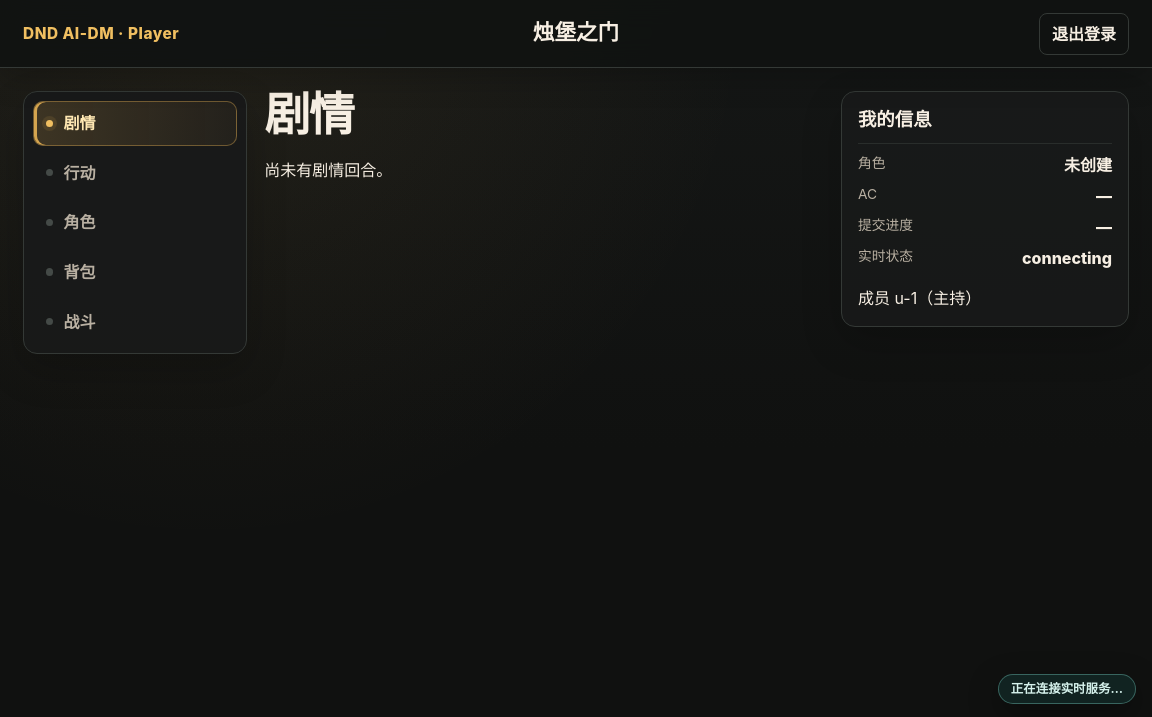
Scenario: Player 工作区 Shell › 渲染三栏并可导航；index 重定向到 story
Expected: the heading "剧情" is shown, [264,90,353,141]
Expected: the text "烛堡之门" is shown, [533,17,619,50]
Click the link "行动": click(79, 173) [63,163,95,183]
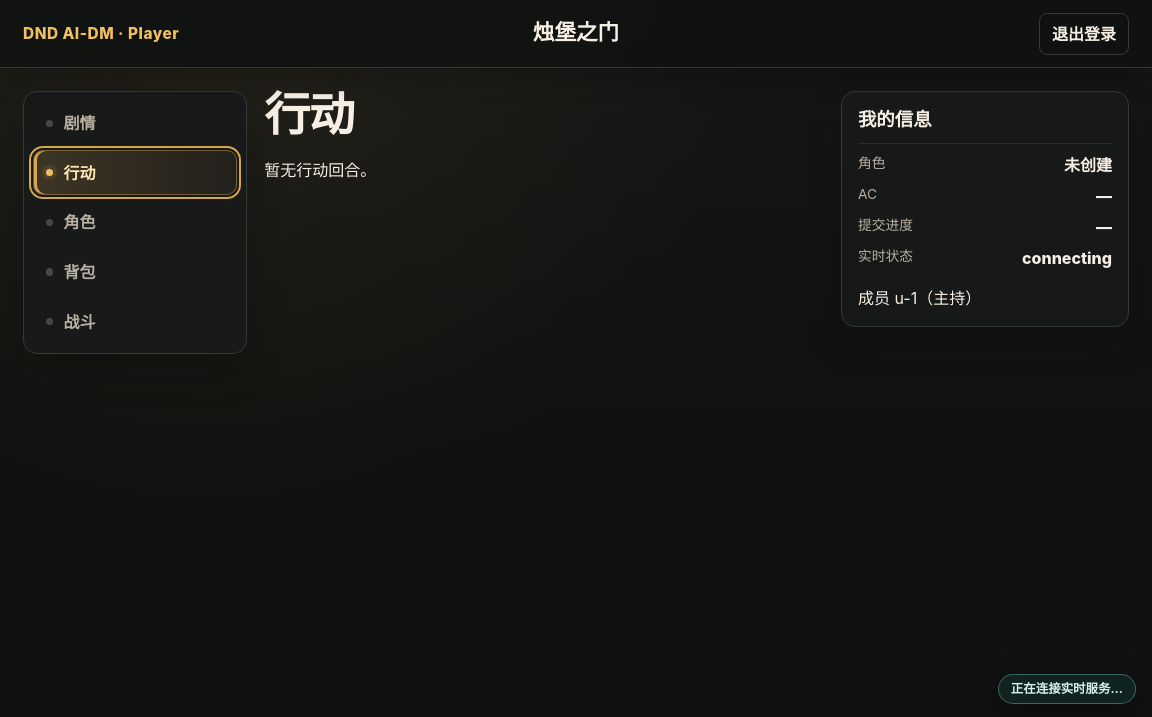
Now the heading "行动" is shown, box [264,90,353,141]
Click the link "角色": click(79, 222) [63,212,95,232]
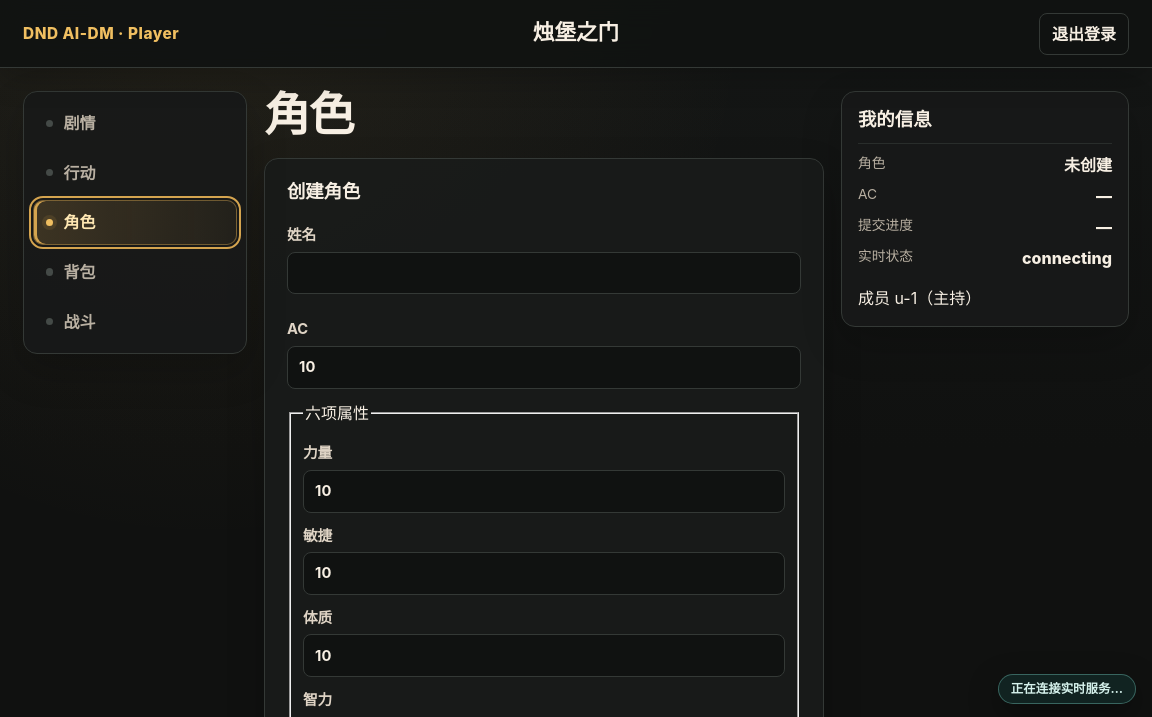
Now the heading "角色" is shown, box [264,90,353,141]
Click the link "背包": click(79, 272) [63,262,95,282]
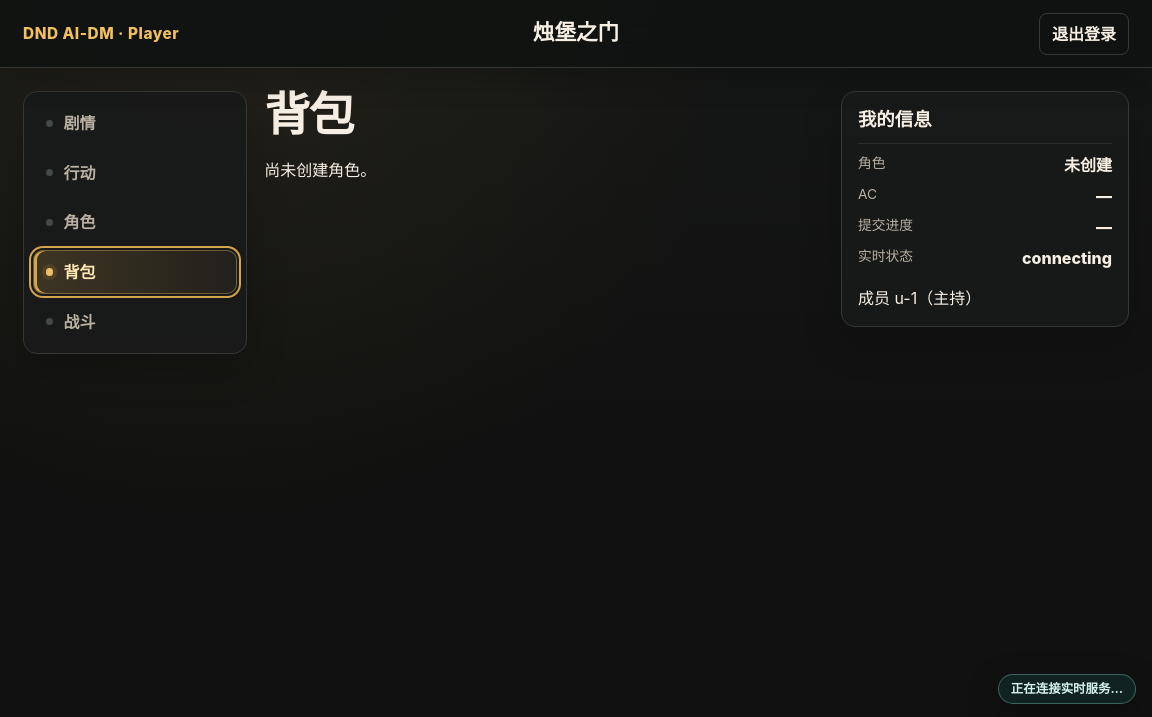
Now the heading "背包" is shown, box [264,90,353,141]
Click the link "战斗": click(79, 322) [63,312,95,332]
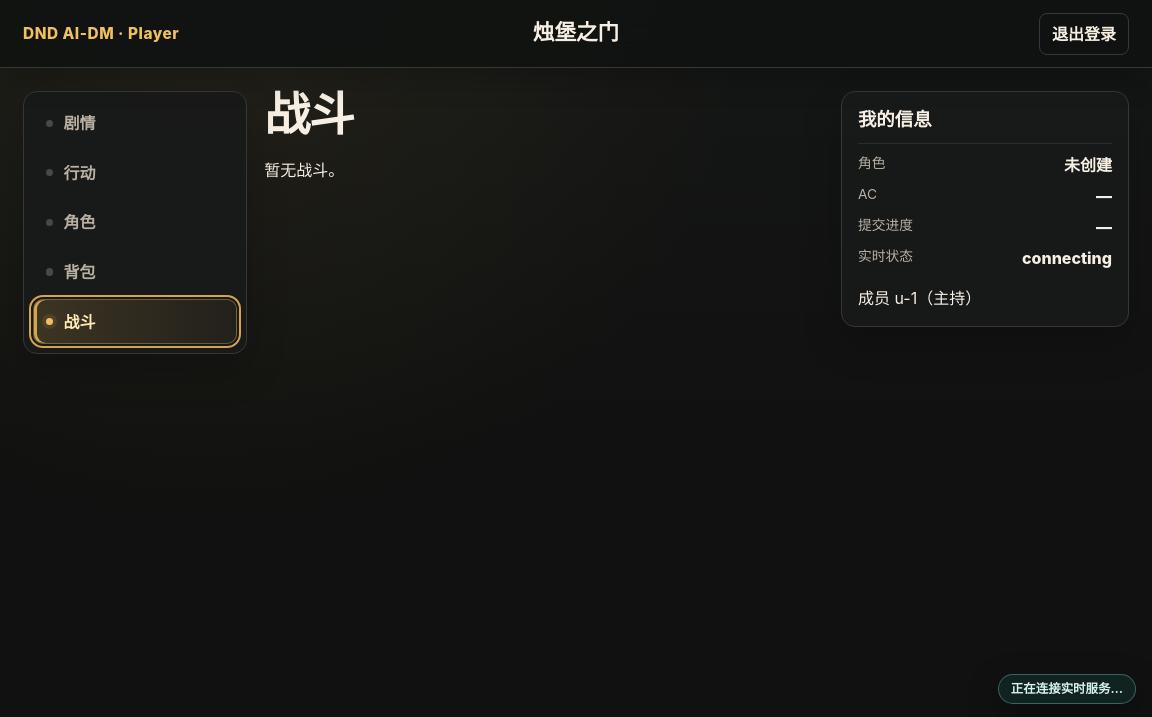
Now the heading "战斗" is shown, box [264,90,353,141]
